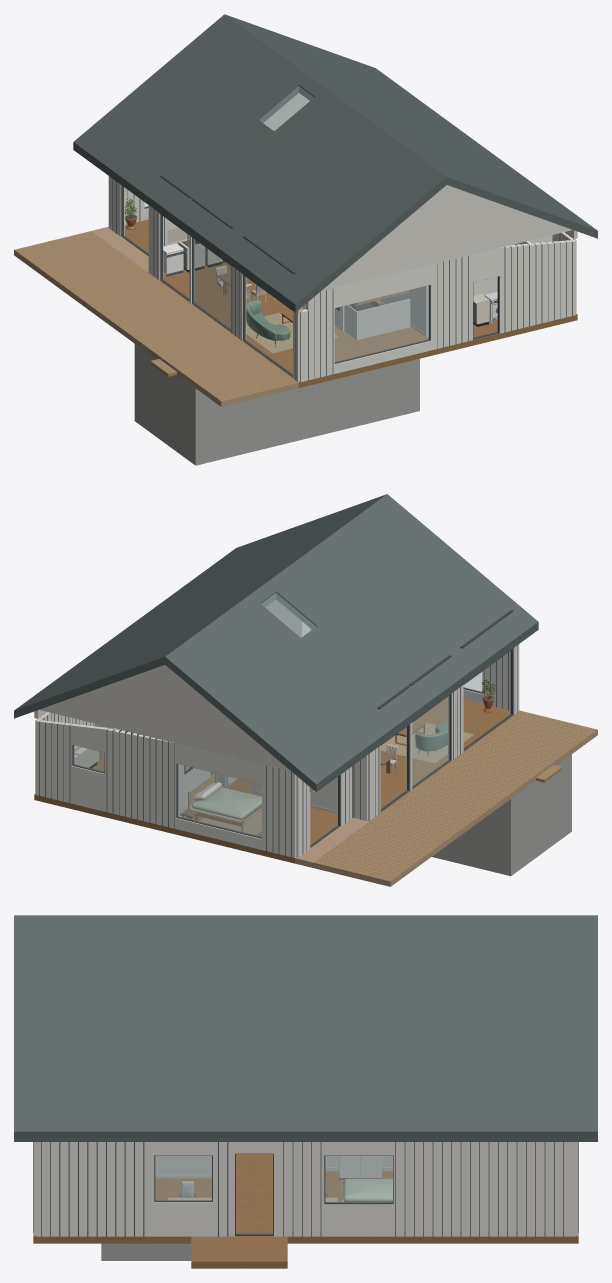
The picture shows the model from 3 angles, top to bottom: view 1: azimuth 30°, elevation 25°; view 2: azimuth 150°, elevation 25°; view 3: azimuth 270°, elevation 25°; orthographic projection. The views are drawn at different scales.
Visible parts, largest first — view 1: Pitched roof 0, Pitched roof 4, Basement retaining 2, Pitched roof 1, ground/left/pier-0, Pitched roof 2, Gable infill.001, ground/left/glass-1, Basement retaining 0, Gable infill, Pitched roof 3, ground/left/pier-1 (+20 smaller); view 2: Pitched roof 0, Pitched roof 4, Pitched roof 1, ground/right/pier-1, Pitched roof 2, Gable infill.003, Basement retaining 0, ground/right/glass-1, Gable infill.002, Pitched roof 3, Main rotated slab 1, ground/right/end (+28 smaller); view 3: Pitched roof 4, ground/front/end, ground/front/pier-0, Main rotated slab 1, ground/front/pier-2, front-porch, ground/front/glass-2, ground/front/glass-0, ground/front/sill-2, ground/front/sill-0, ground/front/pier-1, Main rotated slab 3 (+9 smaller).
Part boxes in pixels (x1,y1,x2,y2): Pitched roof 0: [73, 57, 395, 312]; Pitched roof 4: [225, 14, 597, 238]; Basement retaining 2: [202, 360, 413, 457]; Pitched roof 1: [274, 97, 436, 227]; ground/left/pier-0: [499, 240, 575, 333]; Pitched roof 2: [173, 23, 298, 122]; Gable infill.001: [439, 185, 572, 262]; ground/left/glass-1: [335, 285, 428, 362]; Basement retaining 0: [134, 347, 201, 458]; Gable infill: [321, 191, 439, 291]; Pitched roof 3: [214, 14, 446, 192]; ground/left/pier-1: [430, 254, 472, 350]; Pitched roof 0: [216, 537, 538, 792]; Pitched roof 4: [14, 494, 386, 718]; Pitched roof 1: [276, 503, 438, 629]; ground/right/pier-1: [105, 728, 176, 828]; Pitched roof 2: [175, 603, 300, 707]; Gable infill.003: [39, 665, 172, 742]; Basement retaining 0: [504, 757, 571, 869]; ground/right/glass-1: [178, 764, 261, 837]; Gable infill.002: [172, 671, 290, 771]; Pitched roof 3: [165, 494, 397, 672]; Main rotated slab 1: [34, 755, 425, 863]; ground/right/end: [262, 764, 296, 857]; Pitched roof 4: [14, 915, 597, 1141]; ground/front/end: [393, 1142, 575, 1236]; ground/front/pier-0: [36, 1142, 154, 1236]; Main rotated slab 1: [235, 1154, 578, 1243]; ground/front/pier-2: [274, 1142, 324, 1236]; front-porch: [191, 1236, 287, 1268]; ground/front/glass-2: [325, 1156, 392, 1202]; ground/front/glass-0: [155, 1156, 211, 1200]; ground/front/sill-2: [324, 1204, 393, 1236]; ground/front/sill-0: [154, 1202, 212, 1236]; ground/front/pier-1: [213, 1142, 234, 1236]; Main rotated slab 3: [111, 1178, 211, 1243].
Bounding box in the file's own units: 15.77 × 9.7 × 15.02.
Materials: 145 (18 with a texture image).
